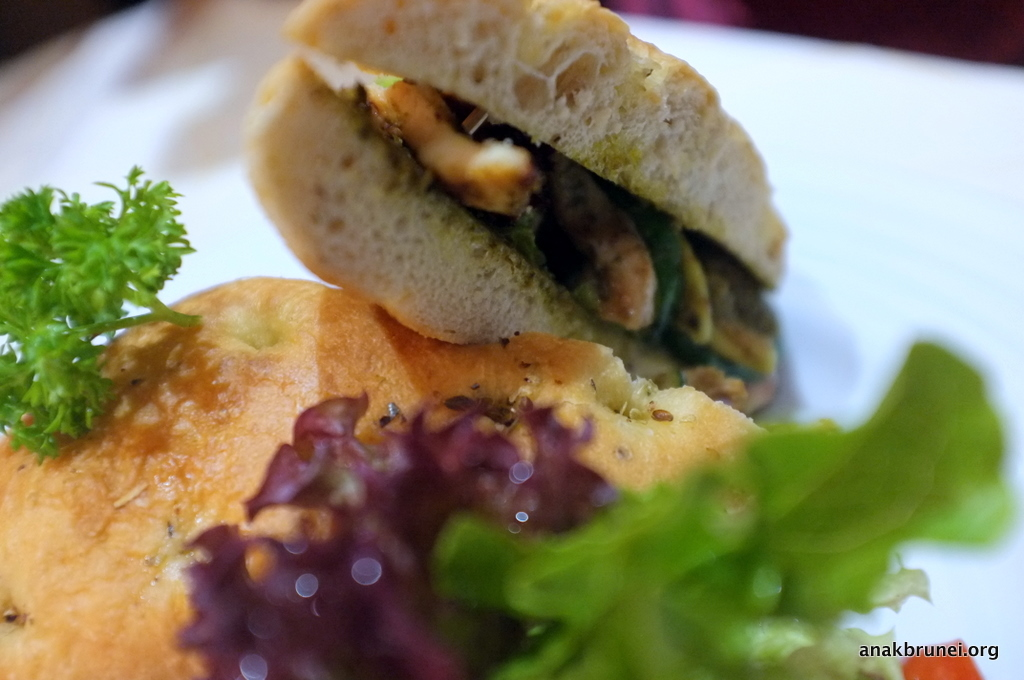Hamburger: (238, 0, 791, 414)
